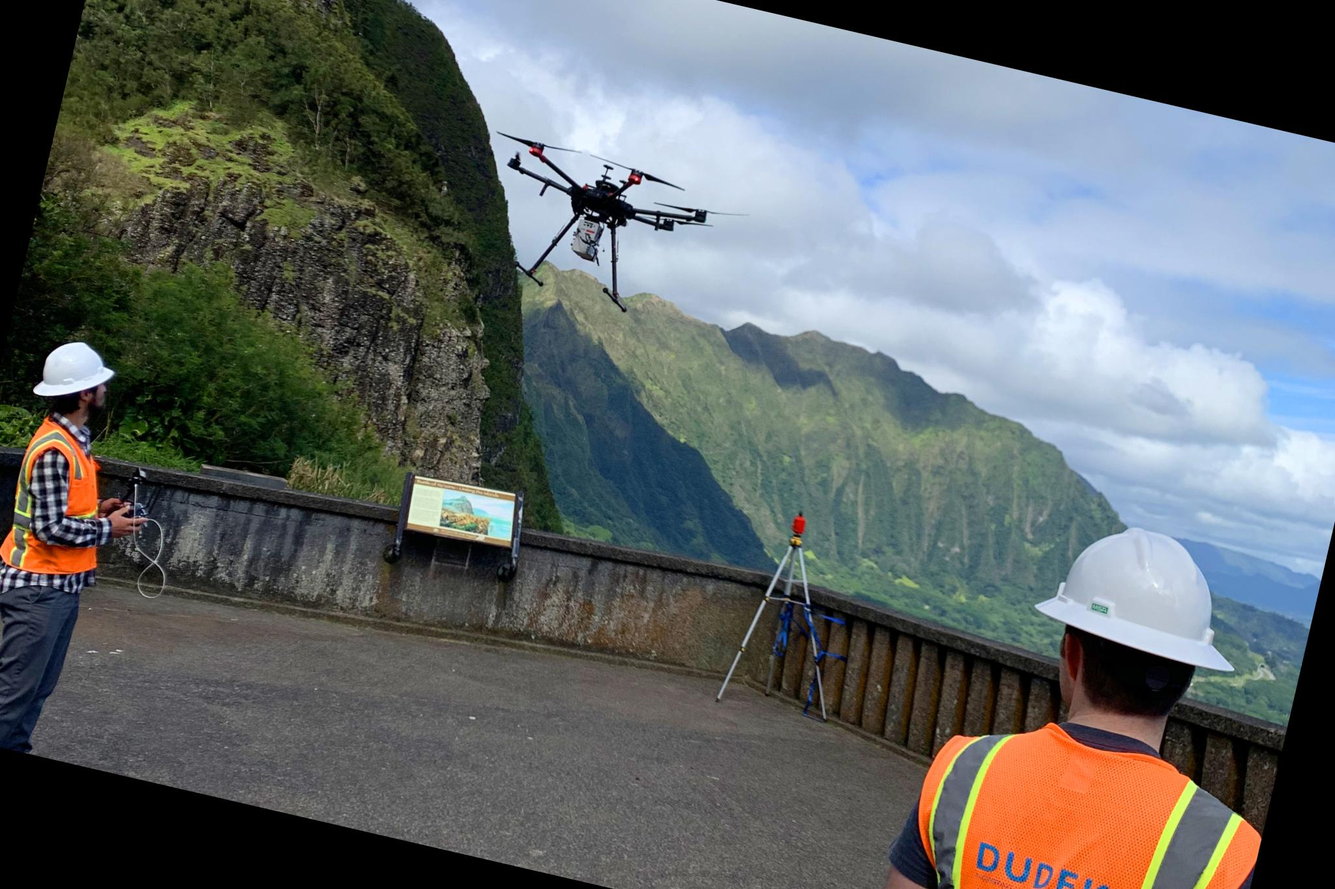drone: (449, 107, 756, 284)
